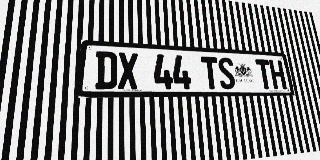4: (153, 54, 173, 89), (172, 55, 192, 89)
D: (95, 51, 117, 89)
H: (269, 60, 287, 89)
S: (217, 57, 236, 89)
T: (201, 56, 220, 89), (255, 59, 274, 89)
X: (118, 52, 139, 89)
